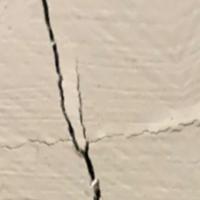crack: (23, 0, 124, 199)
